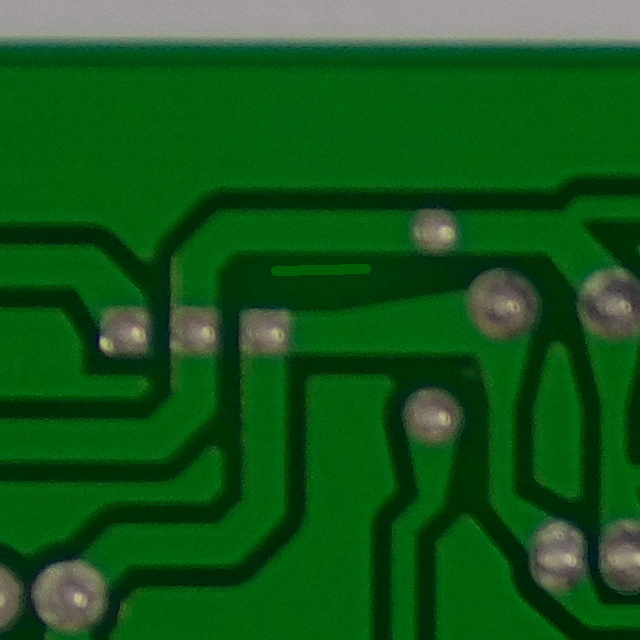spurious_copper: (254, 244, 387, 298)
